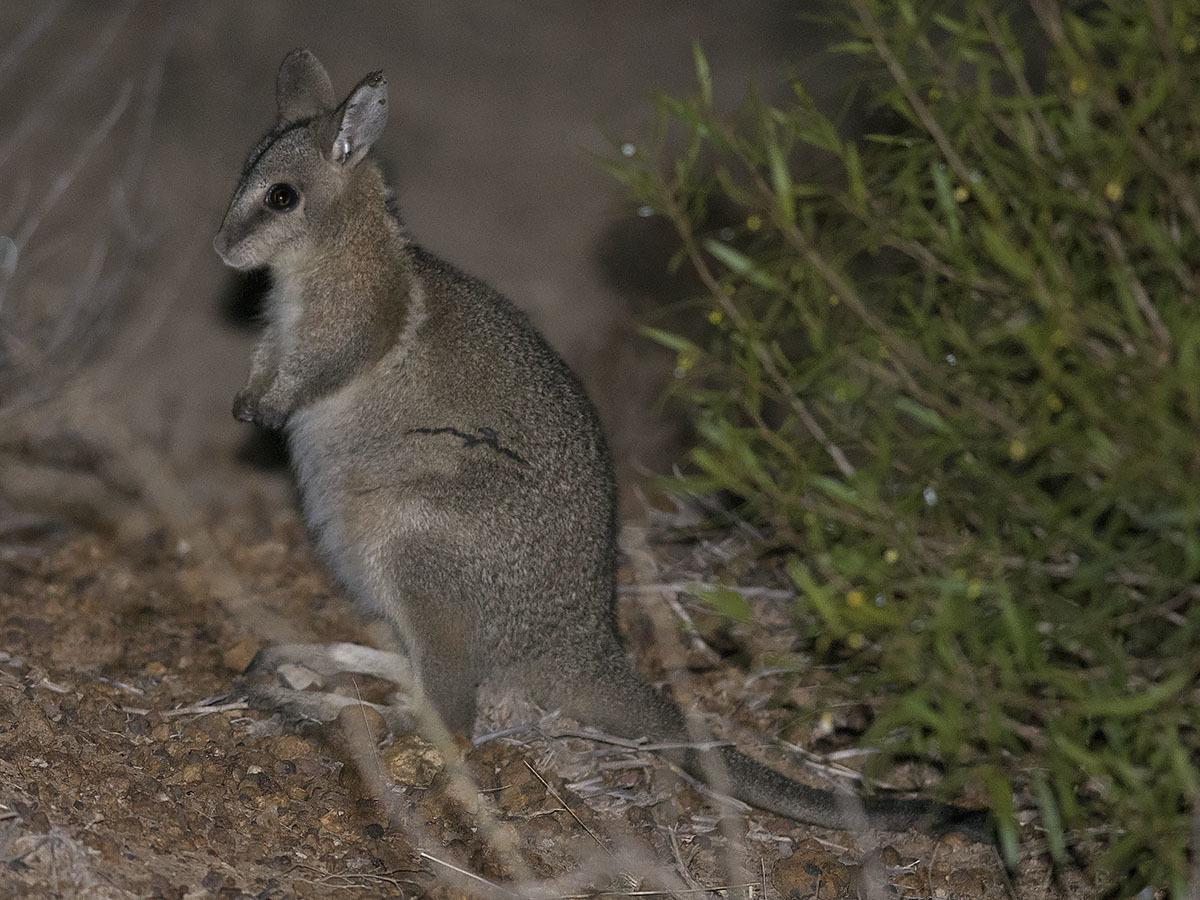Bridled-nail-tail wallaby: (213, 48, 1028, 848)
